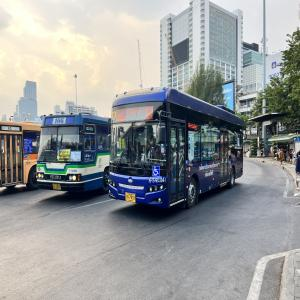BMTA-bus: (31, 114, 110, 194), (0, 121, 41, 191)
Bus Line Number: (144, 103, 156, 121), (53, 116, 65, 126), (6, 125, 13, 131)
Bus Side Number: (146, 176, 166, 184), (68, 168, 78, 174)
Destination Sign: (116, 106, 143, 122), (58, 149, 70, 162)
TSB-Bus: (107, 88, 243, 211)
